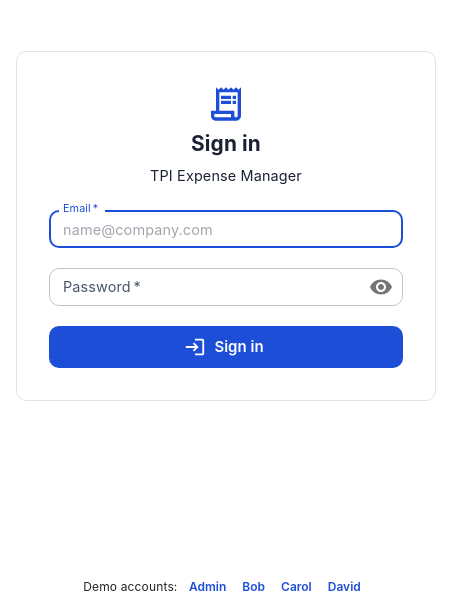
Test: login › shows the API error for wrong credentials
The image size is (453, 608).
Type "alice@tpi.com" into the field labelled "Email *" at (226, 229), box [49, 210, 403, 248]
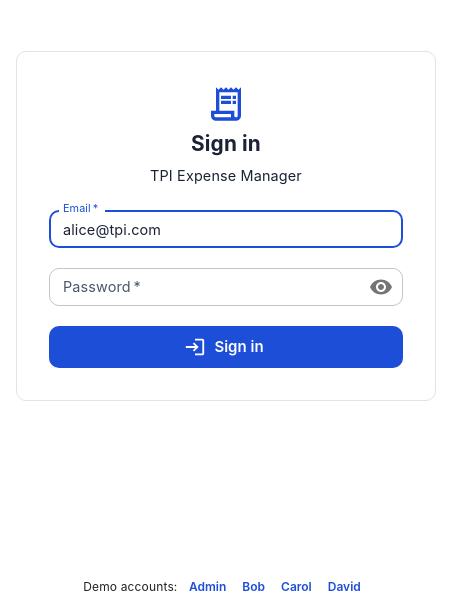
Type "wrong" into the password field labelled "Password *" at (201, 287), box [49, 268, 353, 306]
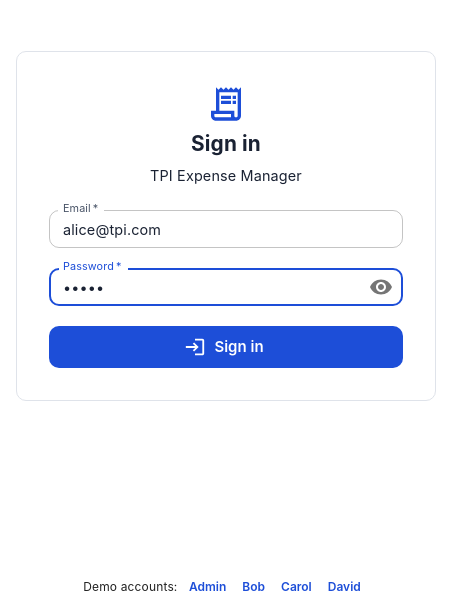
Click the button "Sign in" at (226, 347), box [49, 326, 403, 368]
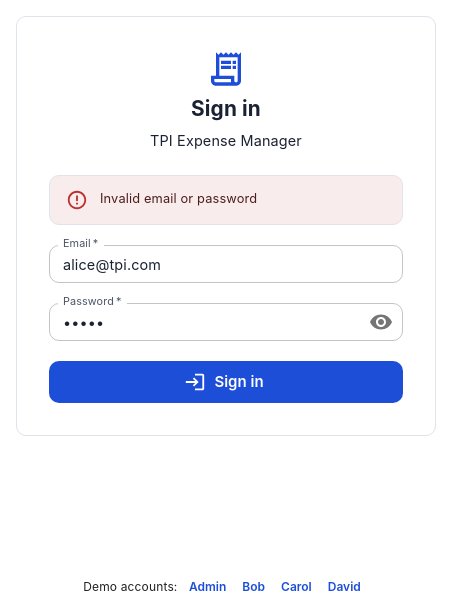
Expected: the message reads "Invalid email or password", [100, 192, 257, 206]
